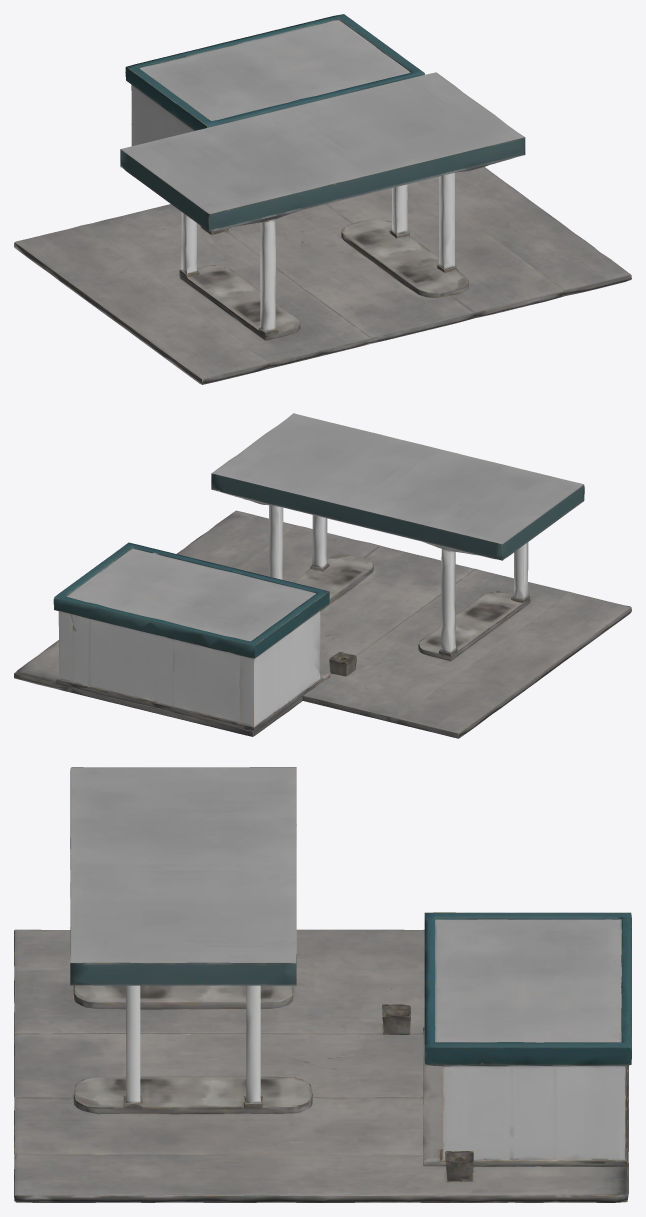
The model's file is station.glb.
3 renders of one model, top to bottom at view 1: azimuth 30°, elevation 25°; view 2: azimuth 150°, elevation 25°; view 3: azimuth 270°, elevation 25°, orthographic. The views are drawn at different scales.
Size of the model in its own units: 1 by 0.3287 by 0.979.
1 material, 1 textured.
